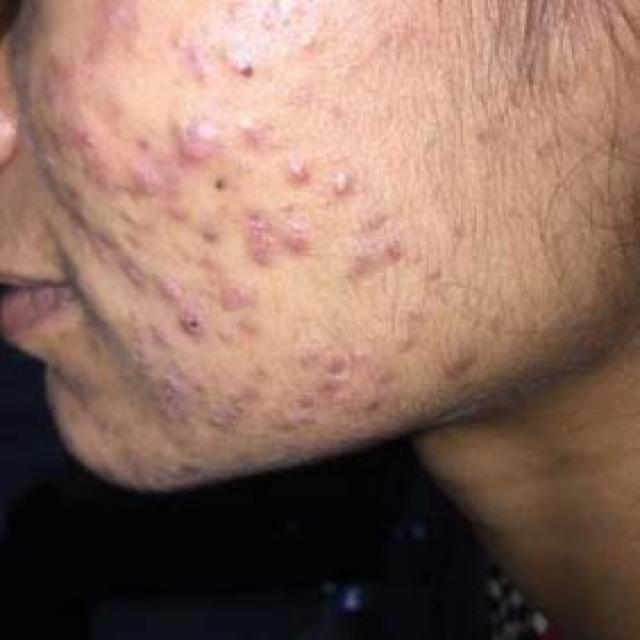Acne: (75, 49, 297, 388)
